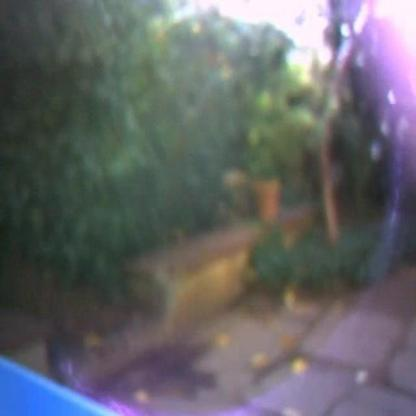other: (211, 2, 415, 118)
